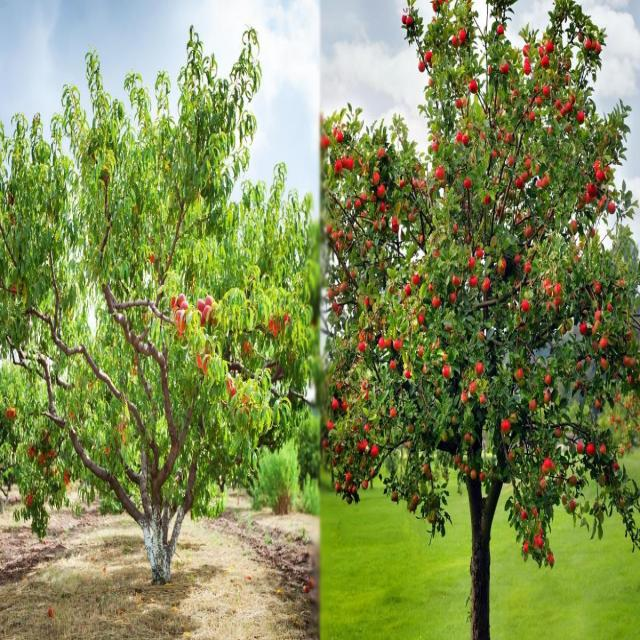peach: (136, 254, 262, 456)
